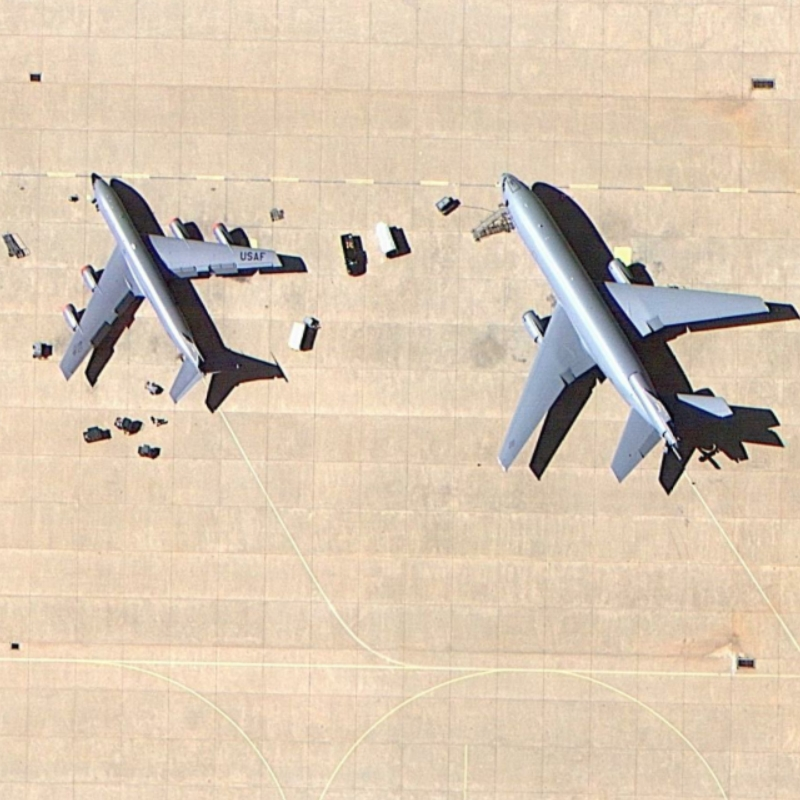A14: (43, 162, 294, 417)
A18: (474, 158, 776, 505)
